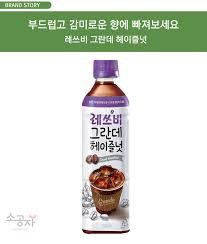letsbe_grande_hazelnut: (80, 58, 133, 236)
